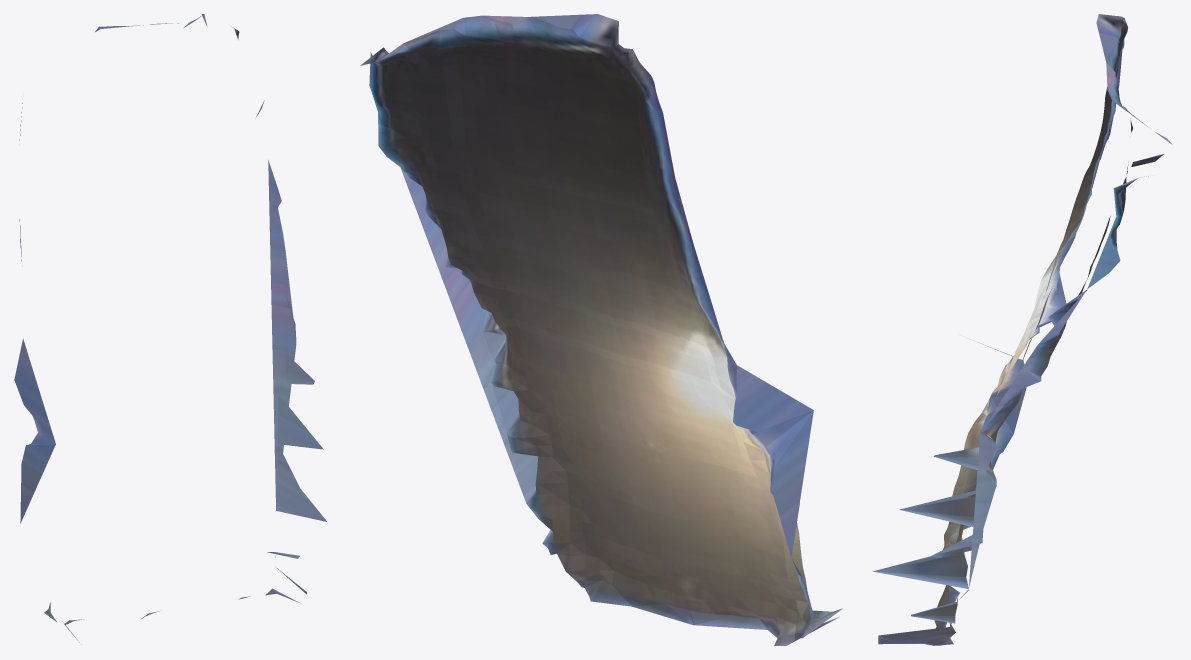
The model's file is observed-surface.glb.
The picture shows the model from 3 angles, left to right: view 1: azimuth 30°, elevation 25°; view 2: azimuth 150°, elevation 25°; view 3: azimuth 270°, elevation 25°; orthographic projection. The views are drawn at different scales.
Parts seen in each view (by area): view 1: geometry_0; view 2: geometry_0; view 3: geometry_0.
Part boxes in pixels (box(x1,y1,x2,y2)): geometry_0: box(14, 14, 326, 644); geometry_0: box(360, 14, 842, 645); geometry_0: box(872, 14, 1172, 645).
Bounding box in the file's own units: 0.2302 × 0.3994 × 0.189.
1 material, 1 textured.
